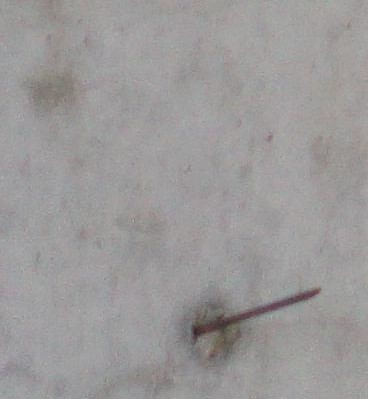Exposed reinforcement: (192, 284, 322, 338)
Spalling: (178, 301, 242, 367)
